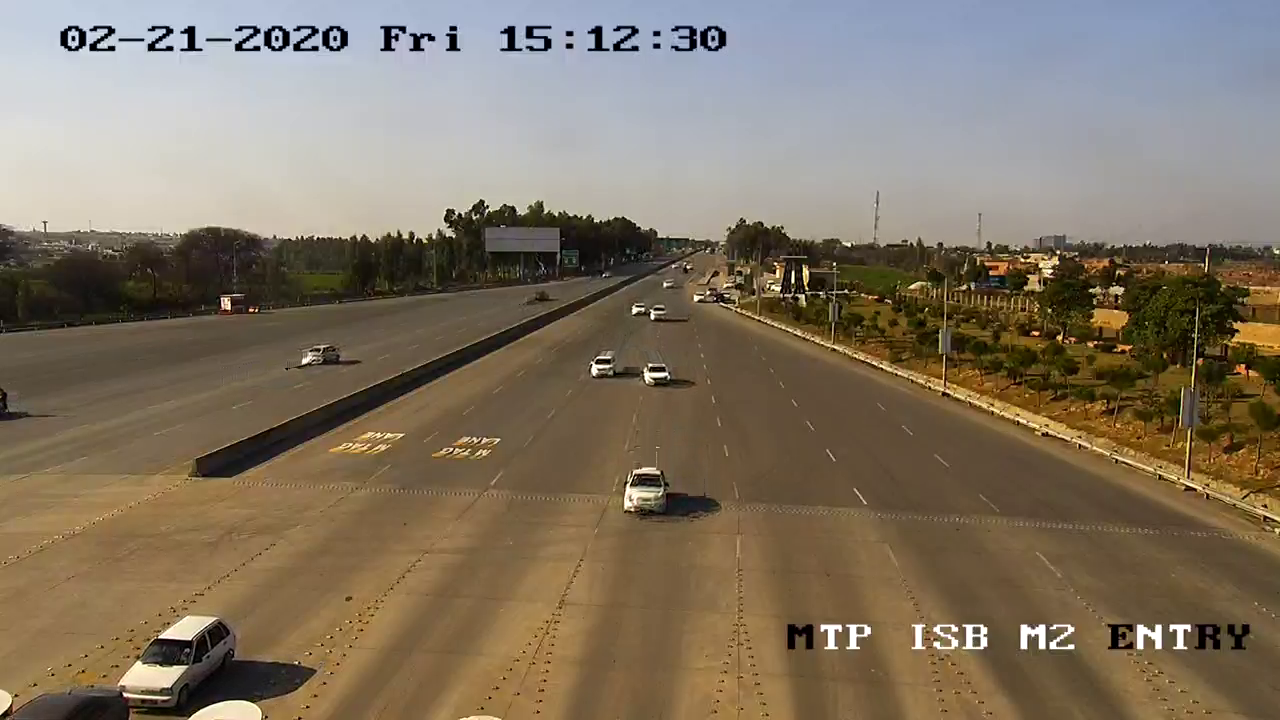f1: (109, 607, 240, 716)
